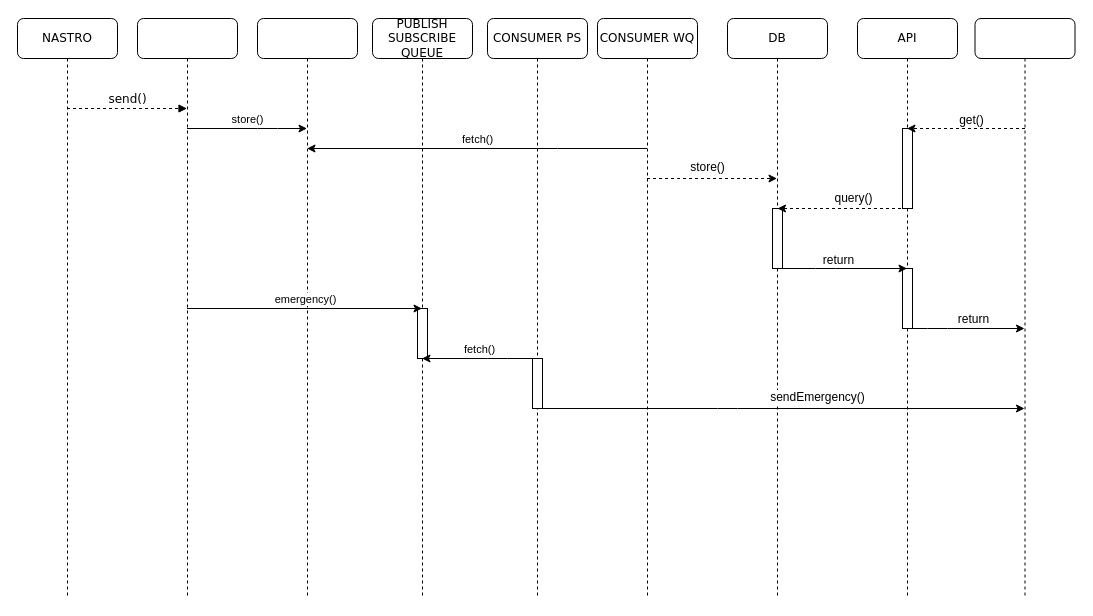
This 1093x616 diagram has some shape labels left out. Here are the shapes that lost their labels. From the top down, the box of each, then its label:
(136, 18, 238, 598): STORE
(256, 18, 358, 598): WORKING QUEUE
(974, 18, 1075, 598): WEB
